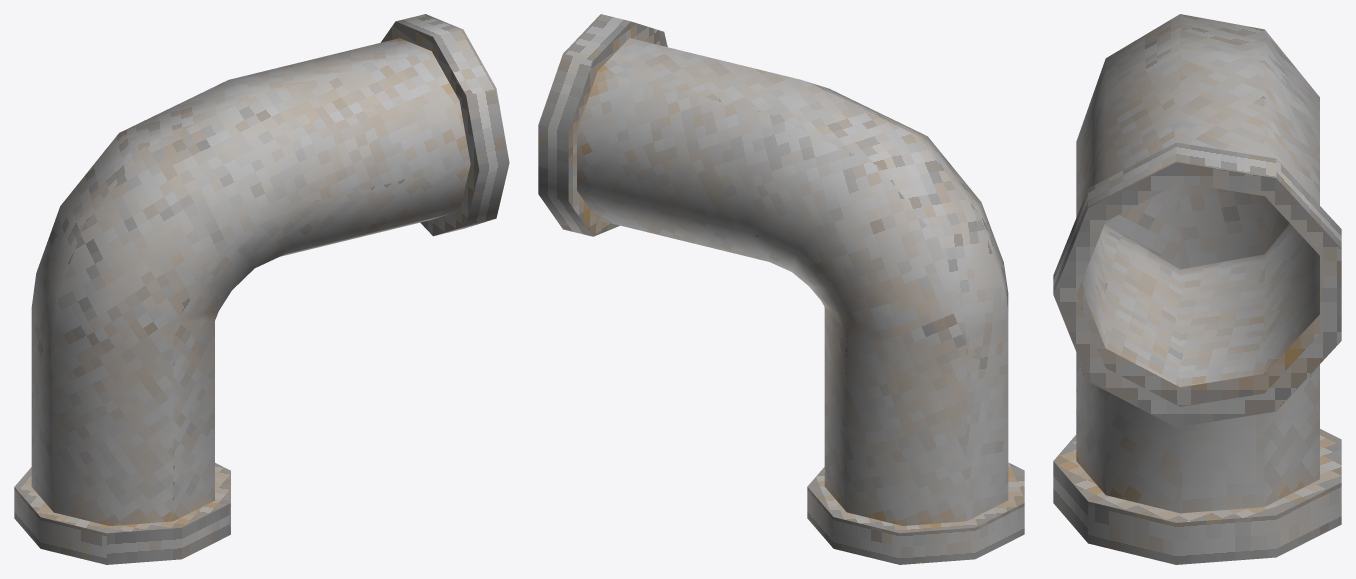
Rendered from PipeBend.glb.
The picture shows the model from 3 angles, left to right: view 1: azimuth 30°, elevation 25°; view 2: azimuth 150°, elevation 25°; view 3: azimuth 270°, elevation 25°; orthographic projection. The views are drawn at different scales.
Parts seen in each view (by area): view 1: PipeBend; view 2: PipeBend; view 3: PipeBend.
Part boxes in pixels (x1=…): PipeBend: x1=14, y1=14, x2=509, y2=564; PipeBend: x1=538, y1=14, x2=1024, y2=564; PipeBend: x1=1053, y1=14, x2=1341, y2=564.
Size of the model in its own units: 0.1678 by 0.1578 by 0.0745.
1 material, 1 textured.
